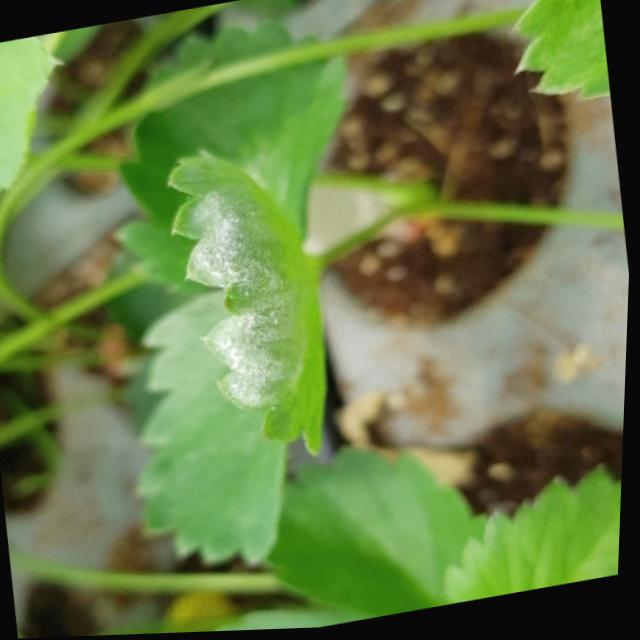Powdery Mildew Leaf: (168, 150, 325, 462)
